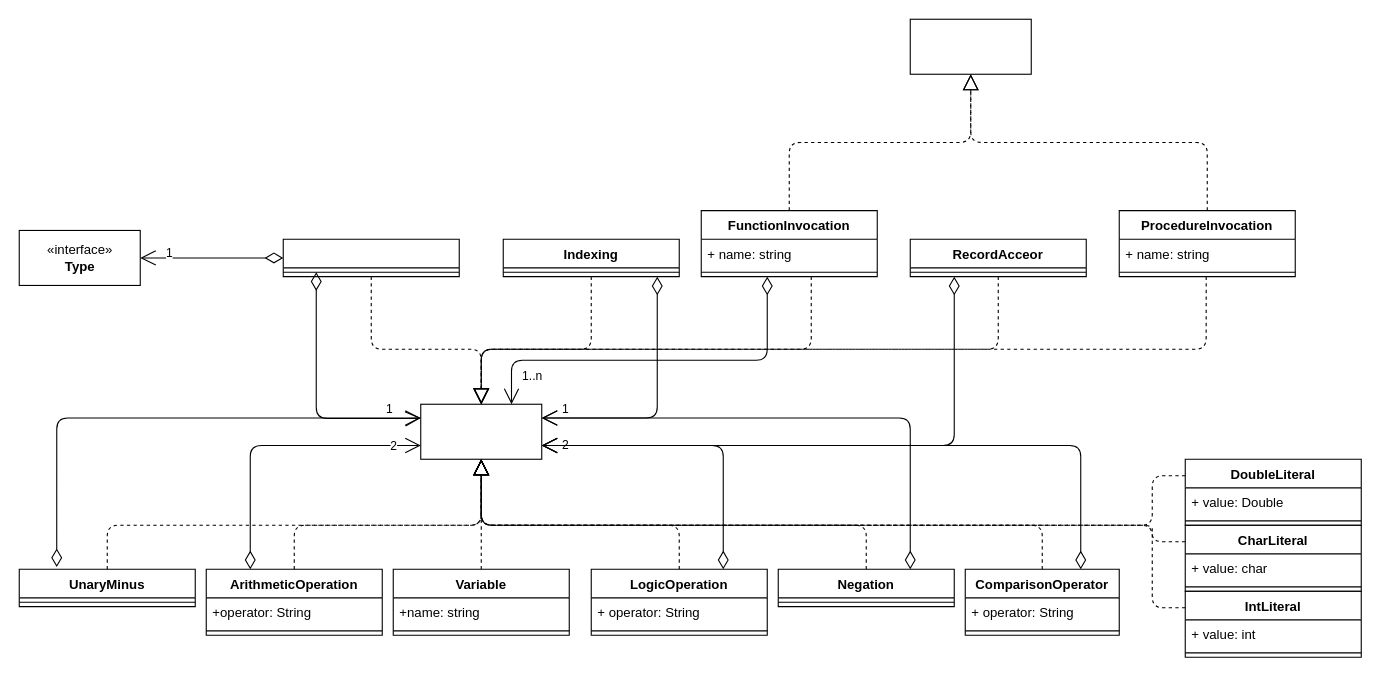
The diagram is 1381 pixels wide and 677 high, and some of its shapes have lost their labels. Here are the shapes that lost their labels. From the top down, the centre of each, then its label:
At point 970,46: "«interface» Statement".
At point 370,257: "Cast".
At point 481,431: "«interface» Expression".
